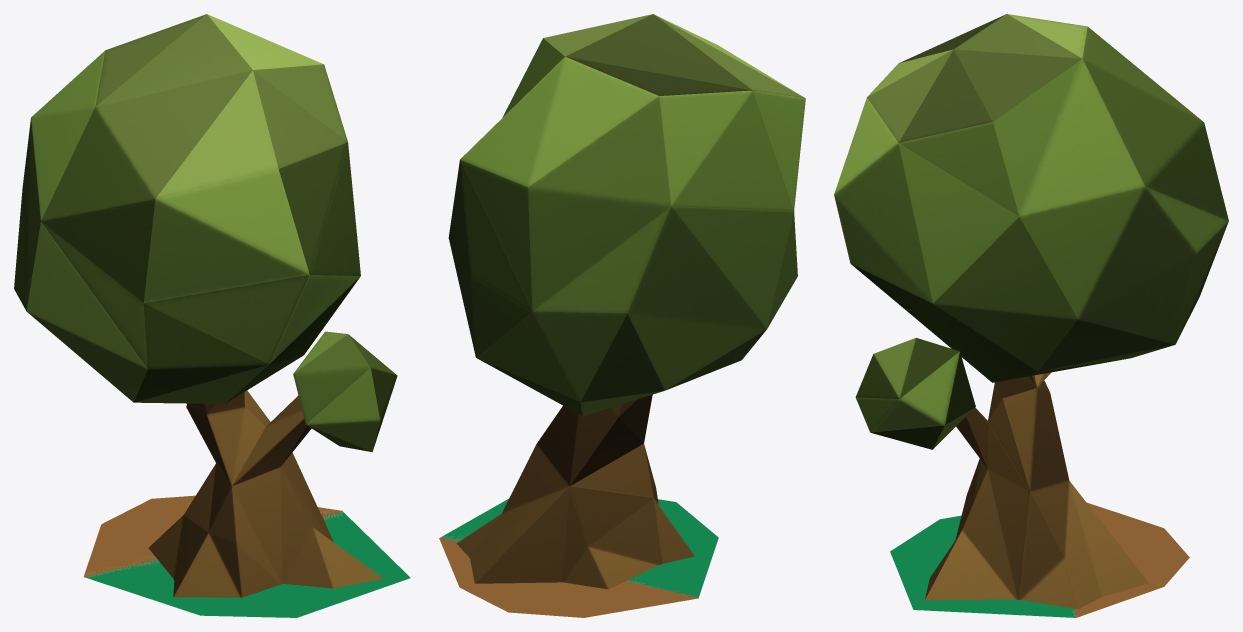
The model's file is tree_S.FBX.
The picture shows the model from 3 angles, left to right: view 1: azimuth 30°, elevation 25°; view 2: azimuth 150°, elevation 25°; view 3: azimuth 270°, elevation 25°; orthographic projection. The views are drawn at different scales.
Visible parts, largest first — view 1: tree_S, grass_shadow_tree, earth_shadow_tree; view 2: tree_S, earth_shadow_tree, grass_shadow_tree; view 3: tree_S, grass_shadow_tree, earth_shadow_tree.
Boxes of the visible parts, box(x1,y1,x2,y2) form: tree_S: box(14, 14, 397, 597); grass_shadow_tree: box(84, 511, 410, 617); earth_shadow_tree: box(83, 495, 342, 577); tree_S: box(448, 14, 805, 589); earth_shadow_tree: box(439, 537, 698, 617); grass_shadow_tree: box(441, 498, 718, 597); tree_S: box(834, 14, 1228, 609); grass_shadow_tree: box(890, 515, 1075, 617); earth_shadow_tree: box(1073, 502, 1189, 617).
Size of the model in its own units: 87.95 by 134 by 95.76.
